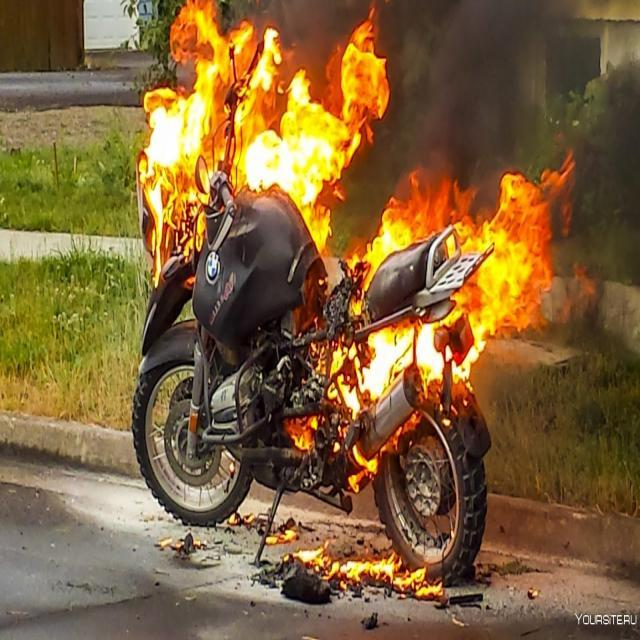Fire: (332, 154, 578, 488), (137, 0, 390, 289), (283, 546, 445, 602)
Smoke: (282, 0, 639, 356)
